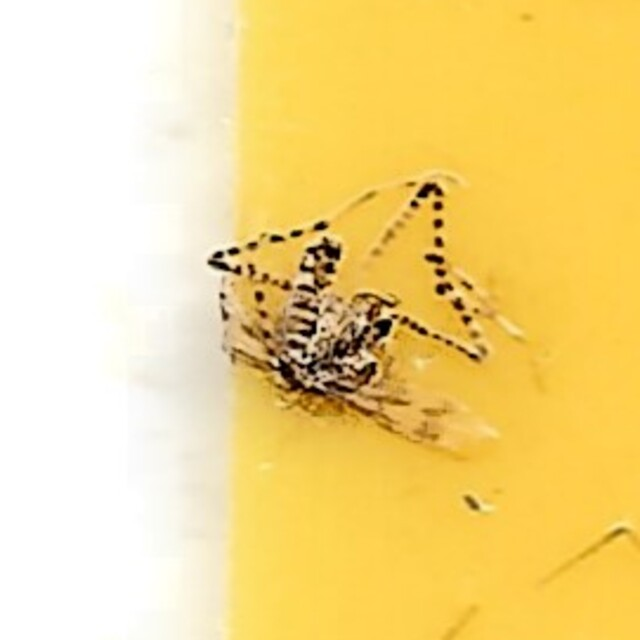Nematocera: (236, 217, 404, 423)
